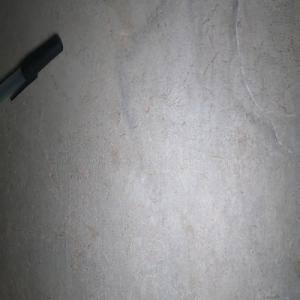Pen: (0, 33, 63, 103)
